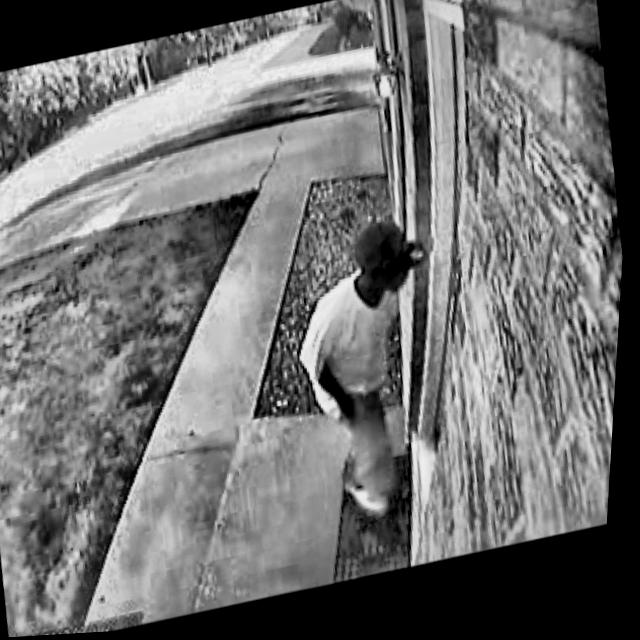burglary: (272, 198, 488, 545)
